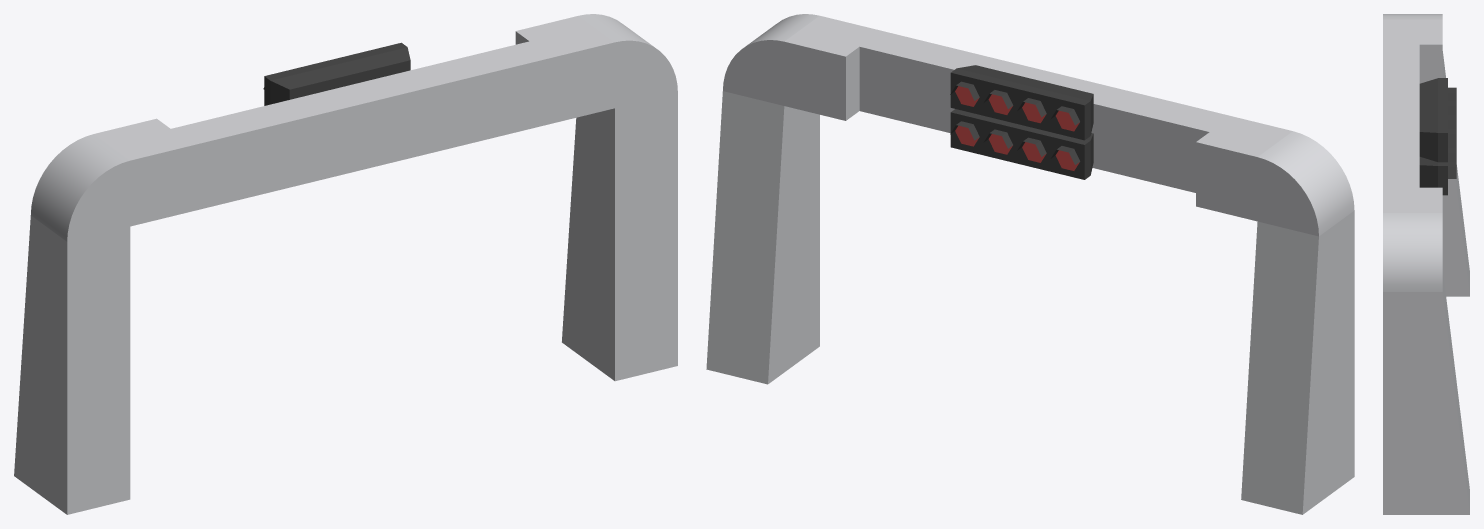
File: overheadLights.obj
3 views of the same model, side by side, from view 1: azimuth 30°, elevation 25°; view 2: azimuth 150°, elevation 25°; view 3: azimuth 270°, elevation 25° (orthographic). The views are drawn at different scales.
Parts seen in each view (by area): view 1: overheadLights; view 2: overheadLights; view 3: overheadLights.
Part boxes in pixels (left/top/right/bottom): overheadLights: left=14, top=14, right=677, bottom=514; overheadLights: left=706, top=14, right=1354, bottom=514; overheadLights: left=1383, top=14, right=1469, bottom=514.
Size of the model in its own units: 1.26 by 0.6939 by 0.19.
